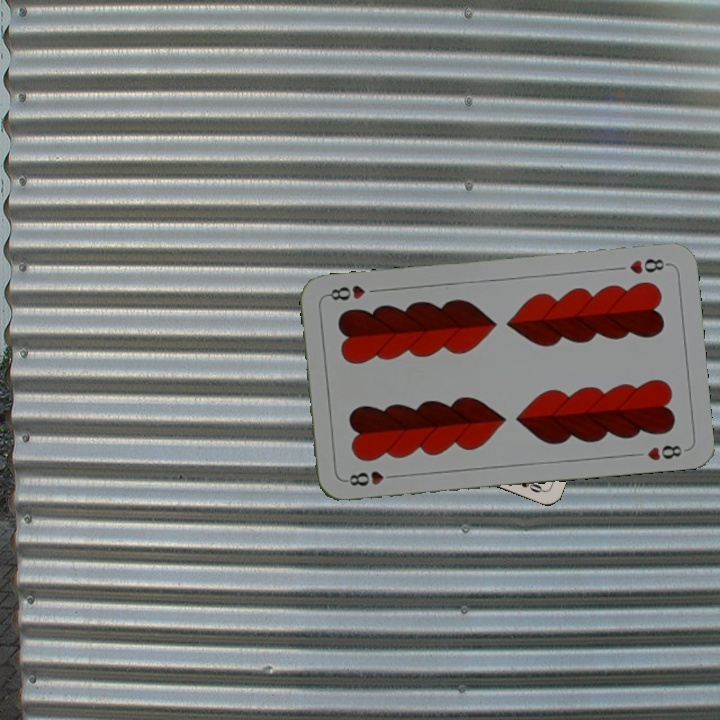H8: (341, 467, 400, 489), (625, 255, 671, 277)
